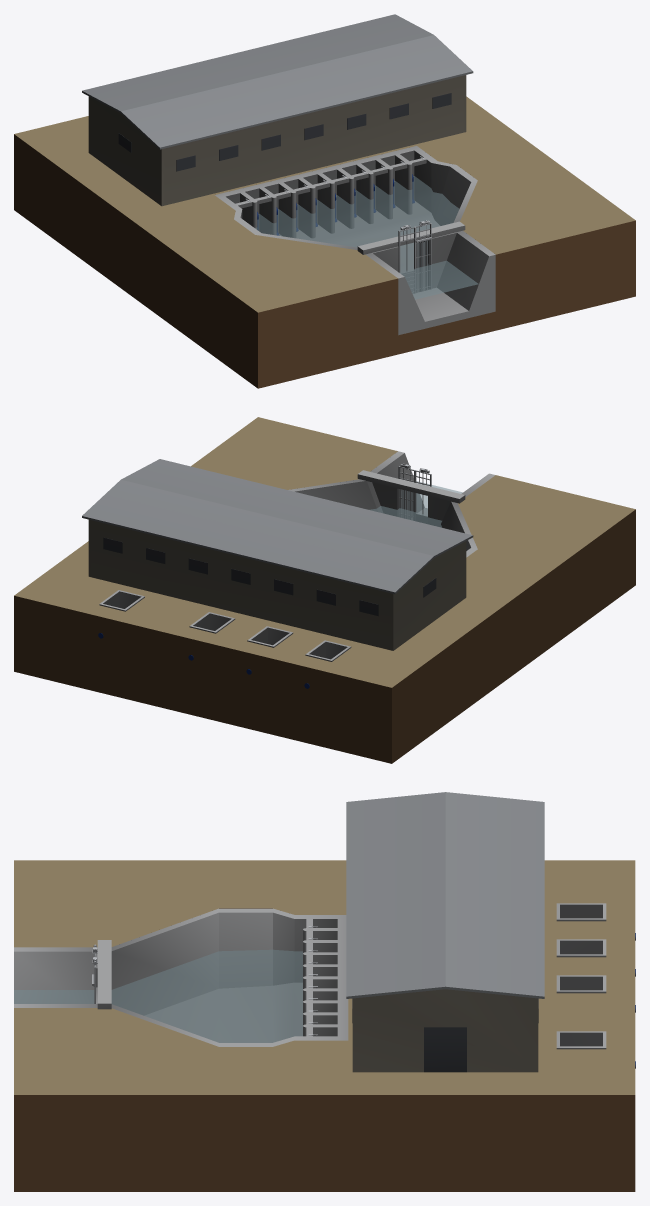
The picture shows the model from 3 angles, top to bottom: view 1: azimuth 30°, elevation 25°; view 2: azimuth 150°, elevation 25°; view 3: azimuth 270°, elevation 25°; orthographic projection. The views are drawn at different scales.
Visible parts, largest first — view 1: STATIC__SOIL, STATIC__CIVIL, STATIC__BLD-ROOF, STATIC__BLD-WALL-S, BASIN-01, STATIC__BLD-WALL-W, STATIC__BLD-WALL-S__WIN, RACK-01__RACK__BARS; view 2: STATIC__SOIL, STATIC__BLD-ROOF, STATIC__BLD-WALL-N, STATIC__CIVIL, STATIC__BLD-WALL-W, STATIC__FM-PIT, STATIC__BLD-WALL-N__WIN, BASIN-01, RACK-01__RACK__BARS; view 3: STATIC__SOIL, STATIC__BLD-ROOF, STATIC__CIVIL, BASIN-01, STATIC__BLD-WALL-E, STATIC__FM-PIT, STATIC__BLD-WALL-E__WIN.
Part boxes in pixels (<box>): STATIC__SOIL: <box>14,96,635,388</box>; STATIC__CIVIL: <box>215,146,495,335</box>; STATIC__BLD-ROOF: <box>82,14,473,149</box>; STATIC__BLD-WALL-S: <box>164,76,463,205</box>; BASIN-01: <box>255,176,478,299</box>; STATIC__BLD-WALL-W: <box>88,96,164,206</box>; STATIC__BLD-WALL-S__WIN: <box>176,93,451,171</box>; RACK-01__RACK__BARS: <box>415,220,431,292</box>; STATIC__SOIL: <box>14,417,635,763</box>; STATIC__BLD-ROOF: <box>82,459,473,594</box>; STATIC__BLD-WALL-N: <box>91,520,390,649</box>; STATIC__CIVIL: <box>288,451,495,557</box>; STATIC__BLD-WALL-W: <box>390,541,466,650</box>; STATIC__FM-PIT: <box>99,590,351,661</box>; STATIC__BLD-WALL-N__WIN: <box>103,537,378,616</box>; BASIN-01: <box>369,481,462,527</box>; RACK-01__RACK__BARS: <box>398,463,415,520</box>; STATIC__SOIL: <box>14,860,635,1191</box>; STATIC__BLD-ROOF: <box>346,792,544,998</box>; STATIC__CIVIL: <box>14,908,348,1046</box>; BASIN-01: <box>14,949,302,1042</box>; STATIC__BLD-WALL-E: <box>352,989,538,1072</box>; STATIC__FM-PIT: <box>556,903,606,1049</box>; STATIC__BLD-WALL-E__WIN: <box>424,1027,466,1072</box>.
Size of the model in its own units: 51.5 by 18.93 by 57.65.
